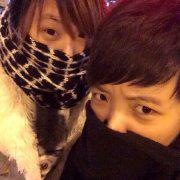WRONG: (85, 78, 179, 172), (29, 14, 99, 80)
